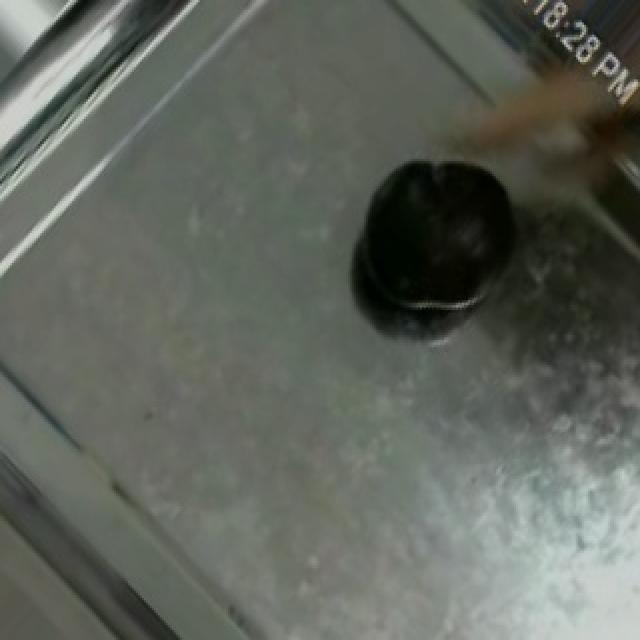Fruit: (344, 136, 532, 330)
